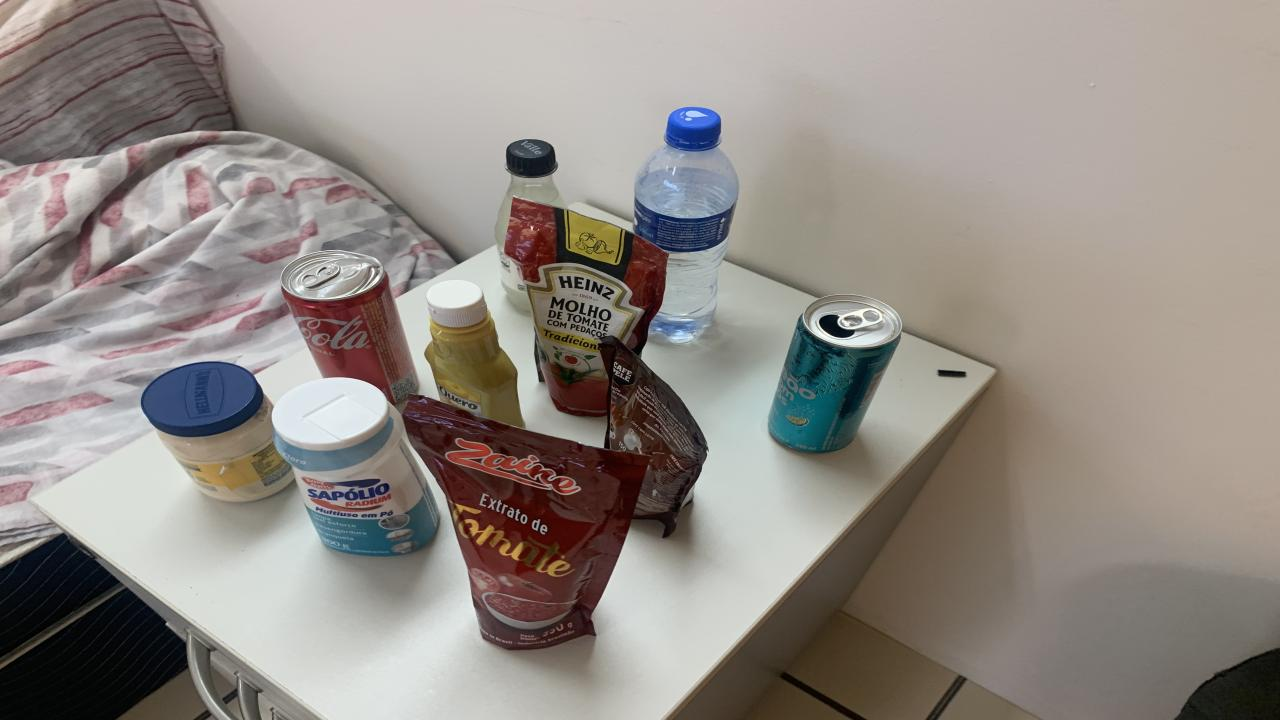Cleaner-Cleanup_Items: (272, 377, 440, 555)
Coffee-Pantry_Items: (600, 336, 708, 536)
Coke-Drinks: (280, 249, 418, 405)
Mayonnaise-Pantry_Items: (140, 362, 292, 502)
Mustard-Pantry_Items: (425, 279, 525, 428)
Soda-Drinks: (495, 139, 565, 313)
Tea-Drinks: (768, 294, 900, 452)
Tomato_Sauce-Pantry_Items: (402, 396, 650, 649), (502, 197, 668, 416)
Water_Bottle-Drinks: (635, 107, 740, 343)
